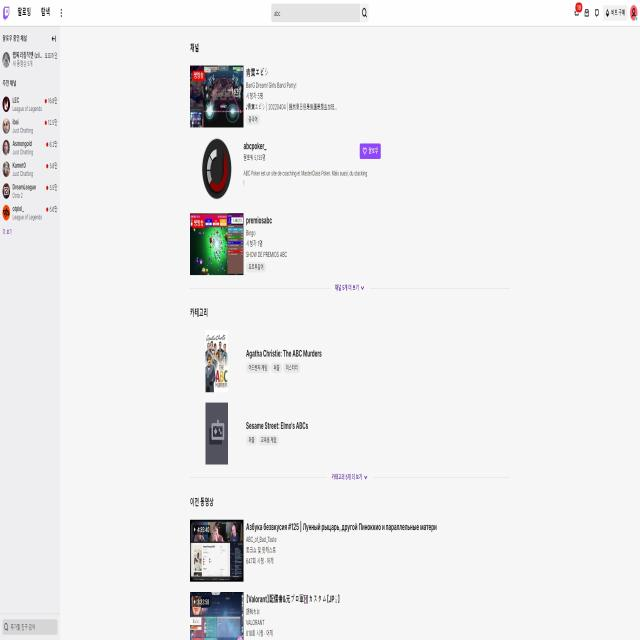search: (269, 1, 372, 24)
tab-bar: (572, 2, 638, 22)
